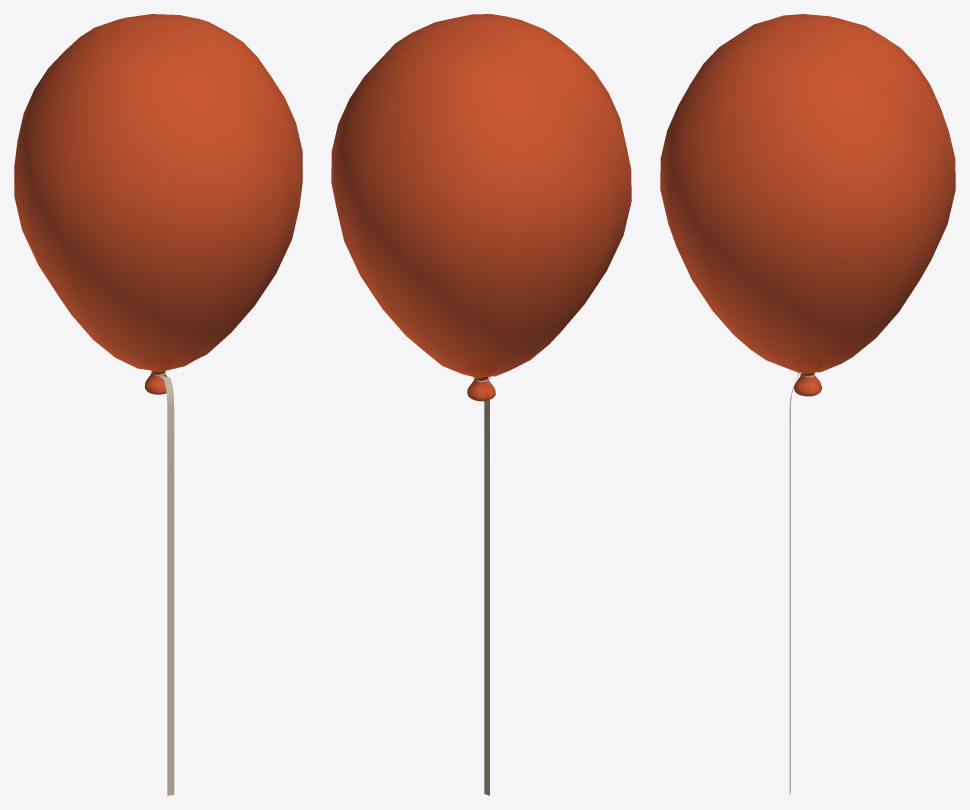
Rendered from Balloon_with_Rope.fbx.
The picture shows the model from 3 angles, left to right: view 1: azimuth 30°, elevation 25°; view 2: azimuth 150°, elevation 25°; view 3: azimuth 270°, elevation 25°; orthographic projection.
Visible parts, largest first — view 1: Balloon, Rope; view 2: Balloon, Rope; view 3: Balloon, Rope.
Boxes of the visible parts, bbox=[...] form: Balloon: bbox=[14, 14, 302, 394]; Rope: bbox=[150, 370, 174, 795]; Balloon: bbox=[331, 14, 631, 401]; Rope: bbox=[473, 376, 490, 795]; Balloon: bbox=[660, 14, 955, 396]; Rope: bbox=[789, 372, 815, 794].
Size of the model in its own units: 94.07 by 269 by 94.07.
